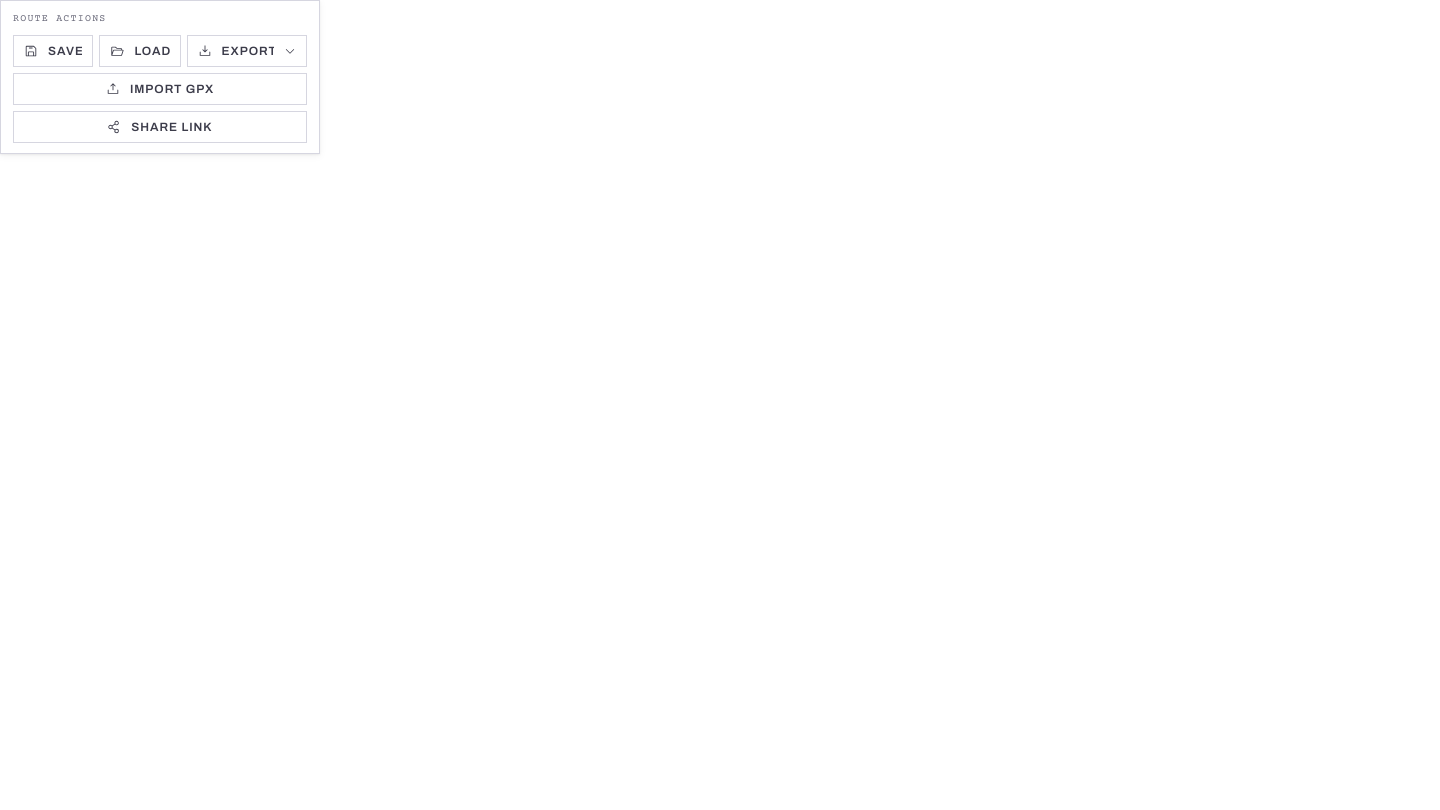
Test: RouteActionsPanel › pre-fills the description and shows "Update" when editing a saved route
The image size is (1440, 810).
What coordinates should you click on to do the following:
click the button with test id "rb2-save-route-button"
I would click on:
 (53, 50)
Its box is top-left (13, 34), bottom-right (93, 66).
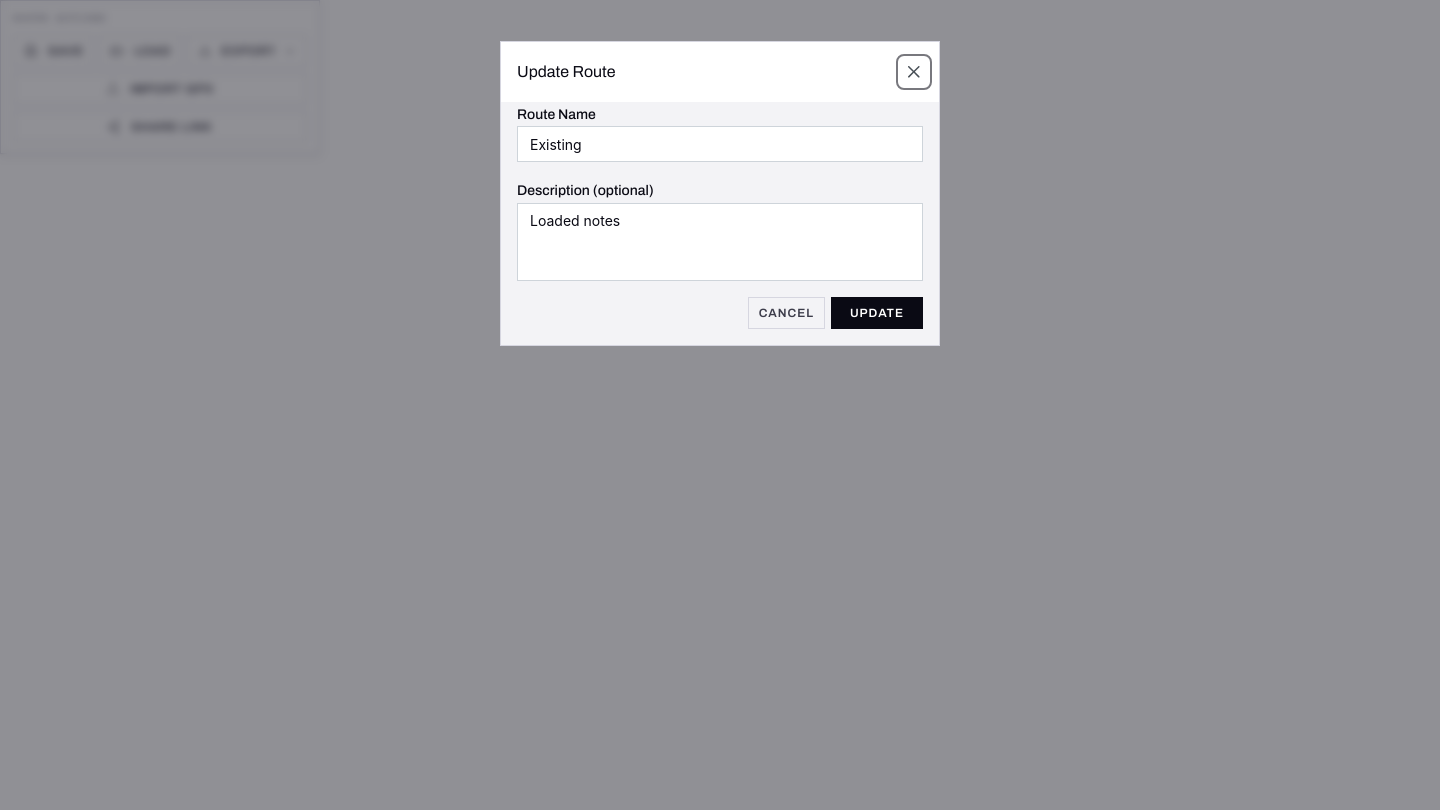
Result: the text box with test id "rb2-save-description-input" holds "Loaded notes" at top-left (517, 203), bottom-right (923, 281)
Result: the button with test id "rb2-save-confirm" reads "Update" at top-left (831, 297), bottom-right (923, 329)
